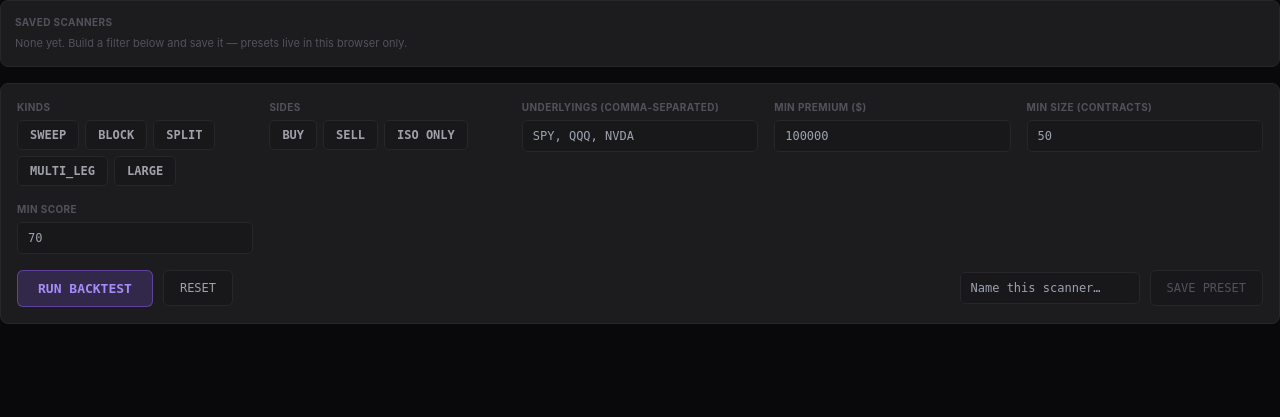
Scenario: scanner backtest › a 400 surfaces the backend detail, not a bare status
Click the button "RUN BACKTEST": (85, 288) [17,270,153,307]
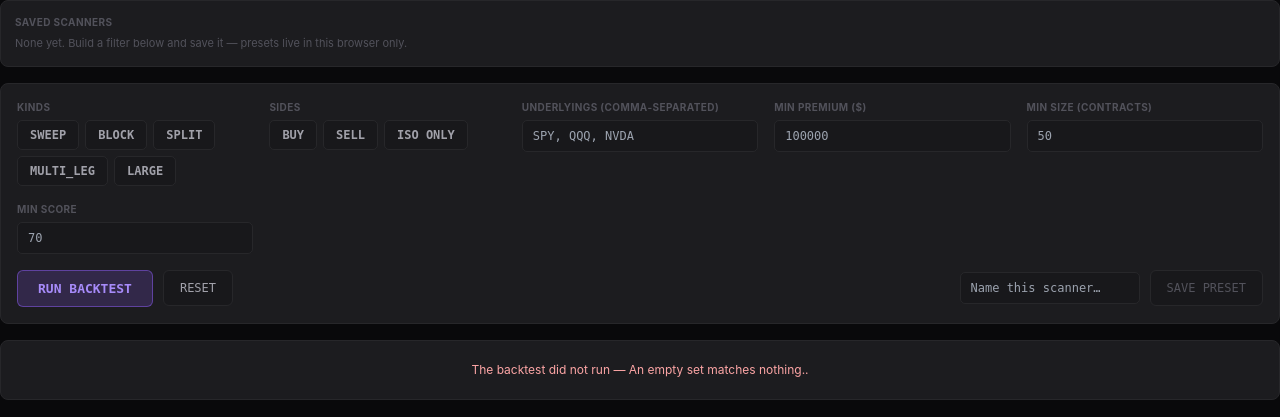
expect the text "The backtest did not run — An empty set matches nothing.." is shown: met, box [0,340,1279,400]
